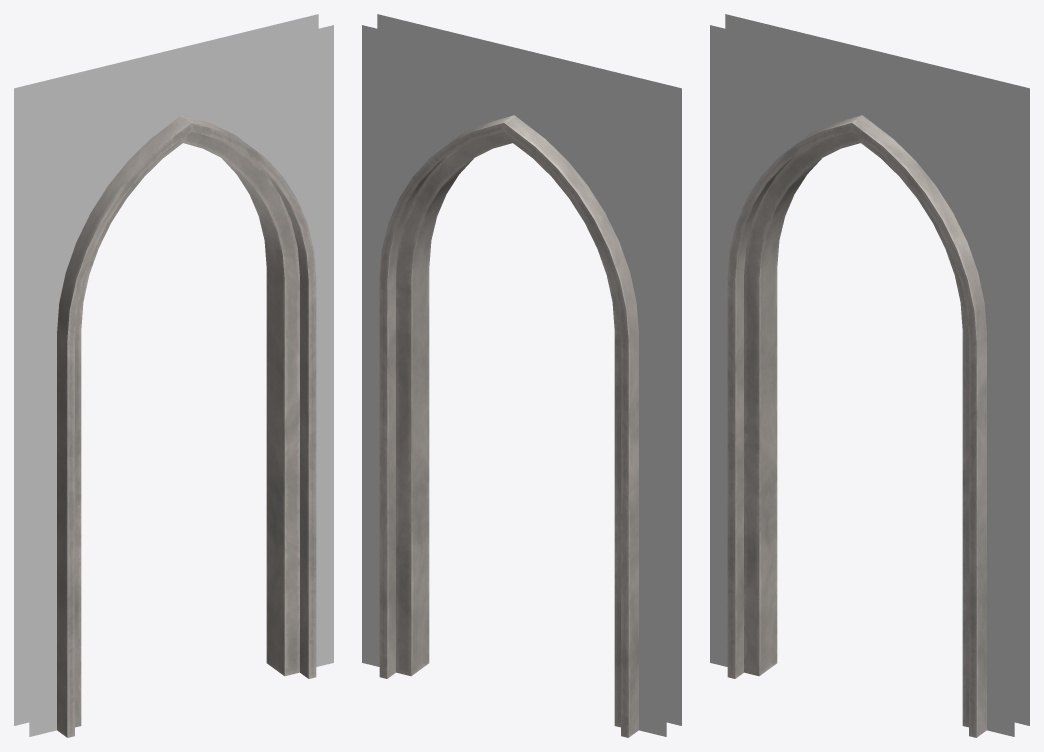
File: Wall_E_C.fbx
The picture shows the model from 3 angles, left to right: view 1: azimuth 30°, elevation 25°; view 2: azimuth 150°, elevation 25°; view 3: azimuth 330°, elevation 25°; orthographic projection.
Visible parts, largest first — view 1: Wall_E_C; view 2: Wall_E_C; view 3: Wall_E_C.
Boxes of the visible parts, box(x1,y1,x2,y2) form: Wall_E_C: box(14, 14, 333, 737); Wall_E_C: box(362, 14, 681, 737); Wall_E_C: box(710, 14, 1029, 737).
Size of the model in its own units: 3 by 0.6115 by 6.
